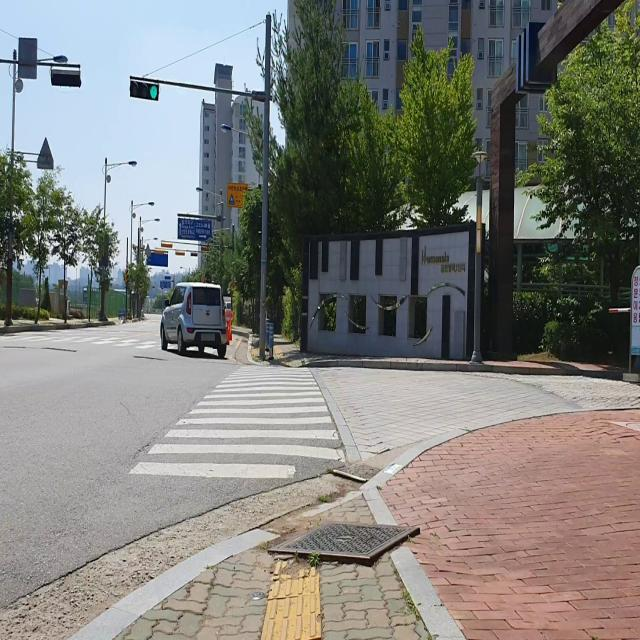횡단보도: (128, 362, 348, 482), (0, 332, 160, 353)
